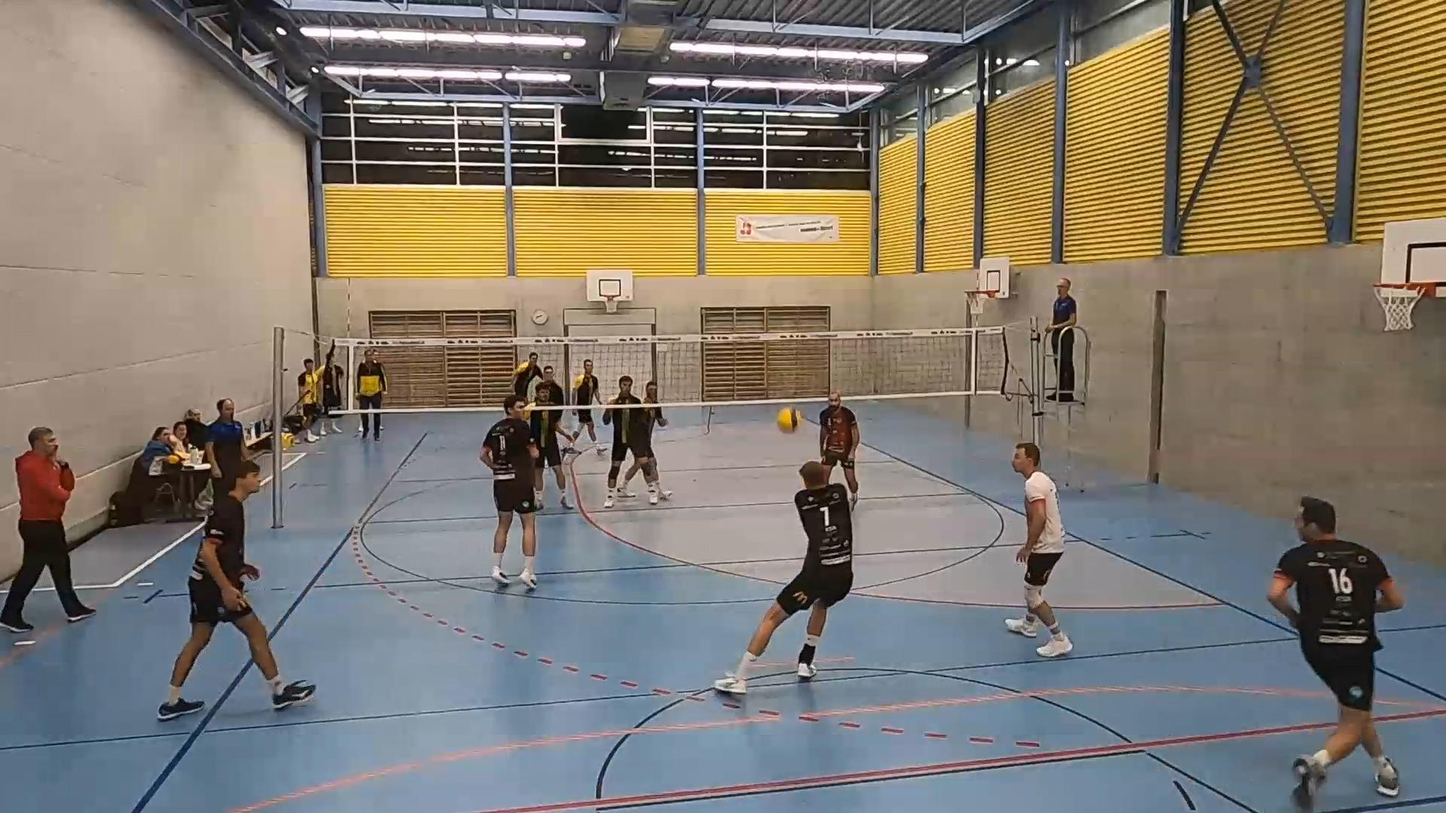Player: (1268, 497, 1404, 809), (157, 461, 315, 720), (1005, 442, 1072, 657), (480, 394, 538, 589), (603, 375, 657, 508), (529, 409, 575, 510), (819, 391, 859, 507), (573, 359, 604, 455), (640, 406, 667, 468), (512, 352, 541, 399)
Receive: (744, 456, 857, 680)
ball: (776, 406, 809, 431)
